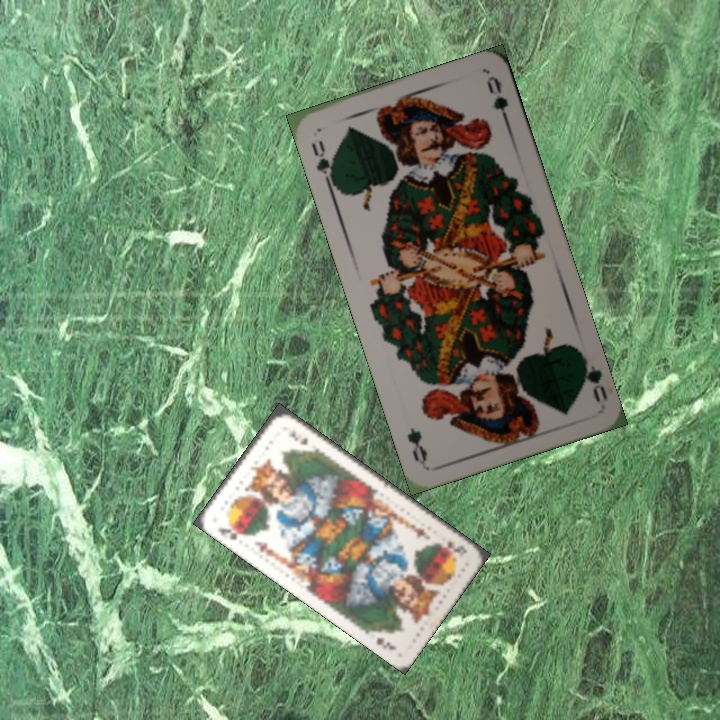GO: (577, 349, 610, 405), (307, 136, 338, 190)
SK: (213, 524, 248, 543), (440, 536, 469, 558)
